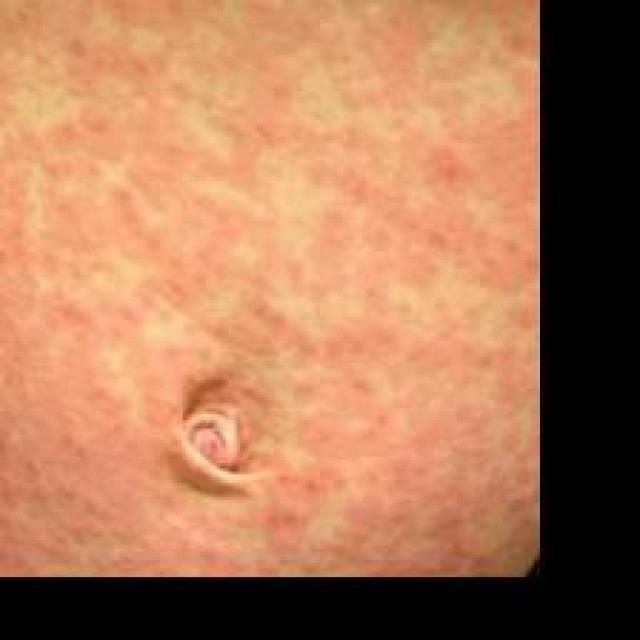others: (0, 0, 536, 568)
